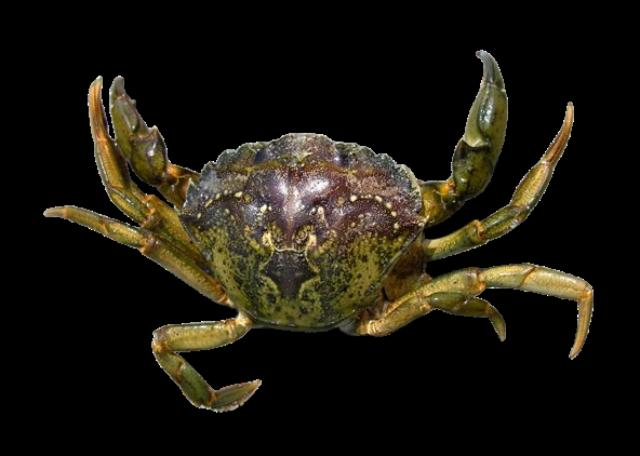crab: (31, 12, 606, 441)
